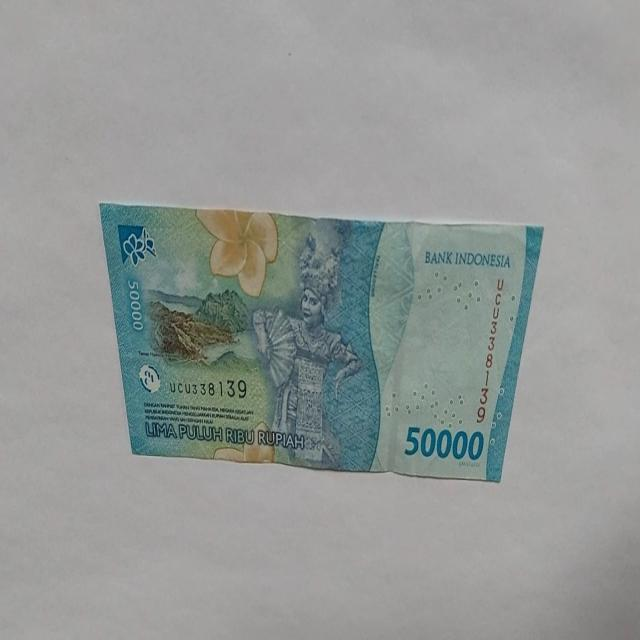lima puluh ribu rupiah: (98, 202, 544, 482)
